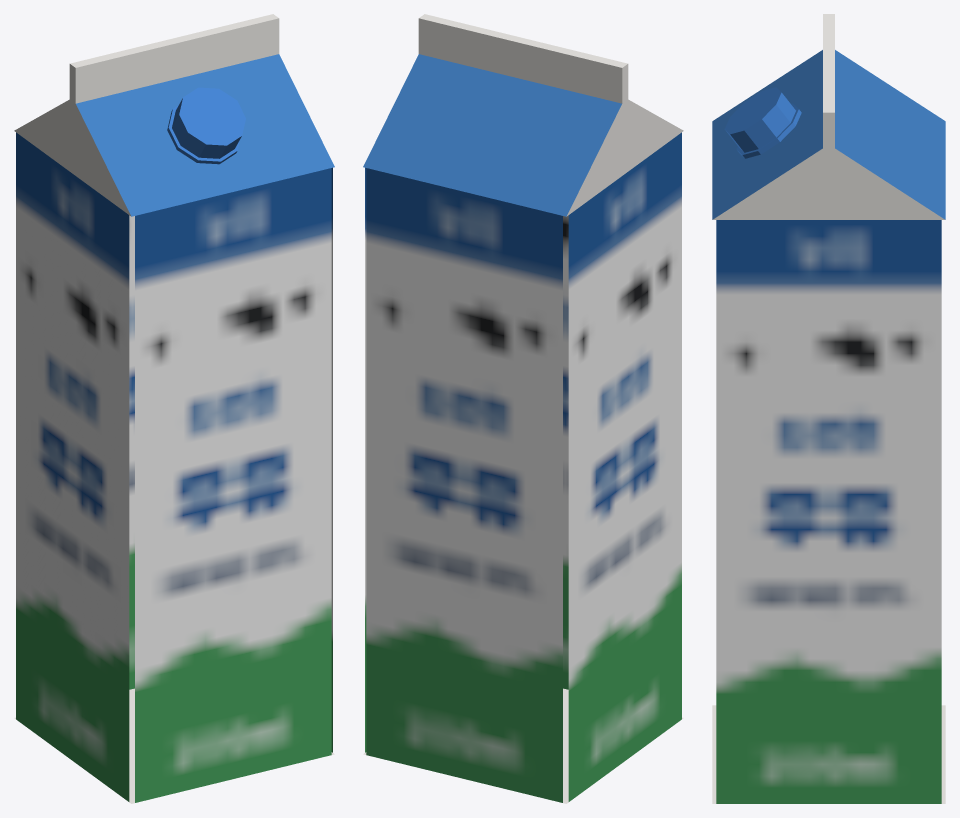
File: SC_Prod_Milk_Carton_1L.gltf
The picture shows the model from 3 angles, left to right: view 1: azimuth 30°, elevation 25°; view 2: azimuth 150°, elevation 25°; view 3: azimuth 270°, elevation 25°; orthographic projection.
Visible parts, largest first — view 1: SC_Prod_Milk_Carton_1L; view 2: SC_Prod_Milk_Carton_1L; view 3: SC_Prod_Milk_Carton_1L.
Boxes of the visible parts, bbox=[...] form: SC_Prod_Milk_Carton_1L: bbox=[14, 14, 334, 803]; SC_Prod_Milk_Carton_1L: bbox=[363, 14, 683, 803]; SC_Prod_Milk_Carton_1L: bbox=[712, 14, 945, 803].
Bounding box in the file's own units: 0.07 × 0.2285 × 0.07.
Materials: 2 (2 with a texture image).
